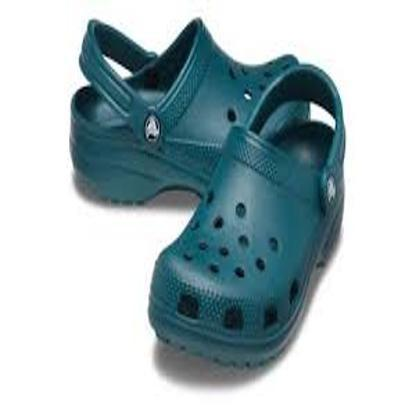not trash: (144, 59, 349, 372), (67, 31, 298, 210)
